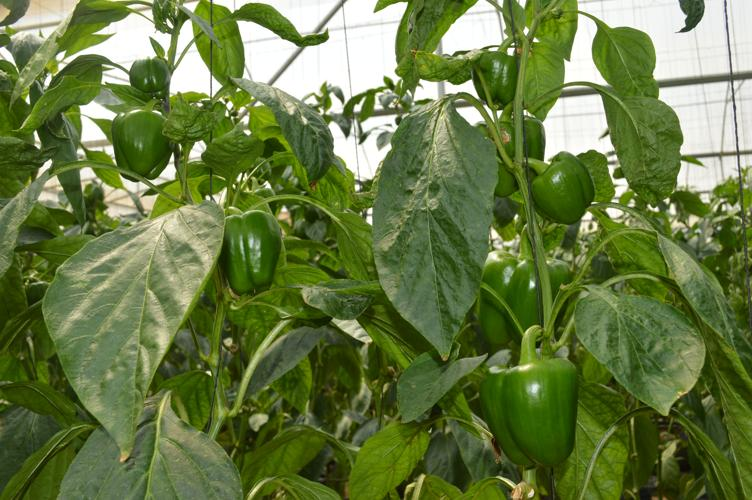BellPepper: (477, 356, 584, 476), (476, 256, 573, 348), (472, 120, 545, 198), (105, 112, 173, 188), (221, 211, 279, 292), (530, 148, 593, 222), (470, 55, 519, 109), (123, 57, 165, 95)
